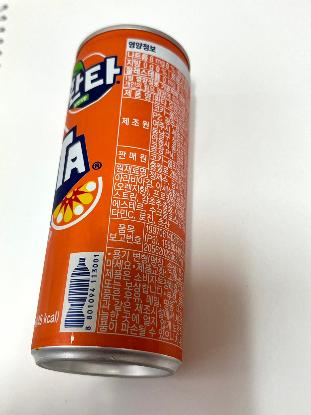Can: (27, 22, 195, 383)
